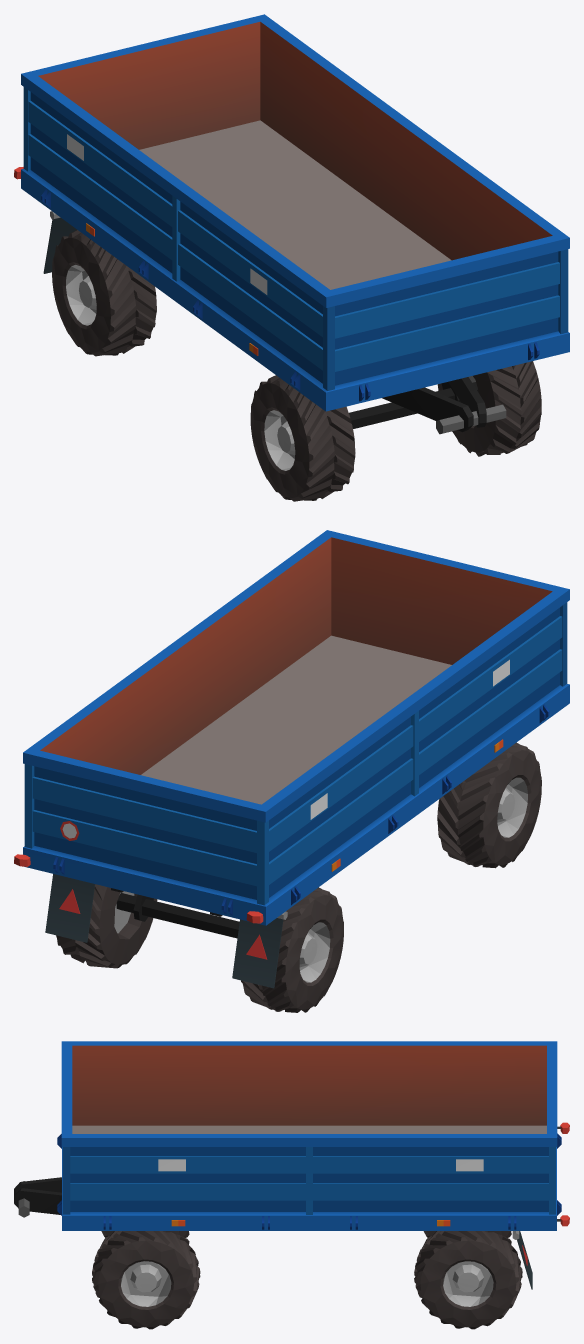
File: trailer_003.glb
3 views of the same model, one above another, from view 1: azimuth 30°, elevation 25°; view 2: azimuth 150°, elevation 25°; view 3: azimuth 270°, elevation 25° (orthographic). The views are drawn at different scales.
Parts seen in each view (by area): view 1: trailer_003; view 2: trailer_003; view 3: trailer_003.
Part boxes in pixels (x1,y1,x2,y2): trailer_003: (14,14,569,501); trailer_003: (14,530,569,1012); trailer_003: (14,1041,569,1329).
Bounding box in the file's own units: 2.31 × 2.12 × 5.4.
Materials: 1 (1 with a texture image).
